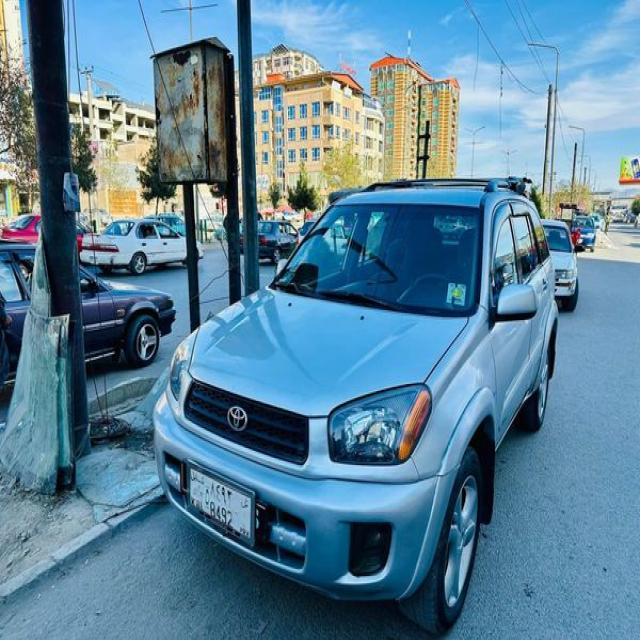Plate: (185, 461, 254, 551)
